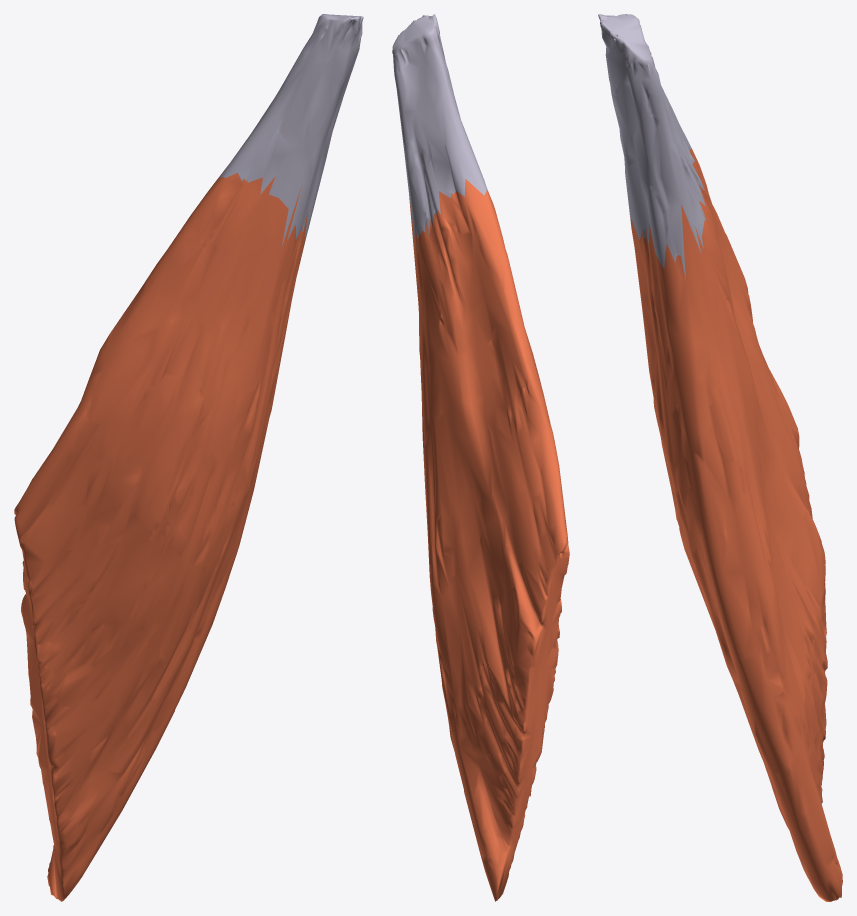
Rendered from Adductor_longus.r_Generated_Mesh_From_X3D.1012.glb.
3 renders of one model, left to right at view 1: azimuth 30°, elevation 25°; view 2: azimuth 150°, elevation 25°; view 3: azimuth 270°, elevation 25°, orthographic. The views are drawn at different scales.
Parts seen in each view (by area): view 1: Adductor_longus.r_Generated_Mesh_From_X3D.1012; view 2: Adductor_longus.r_Generated_Mesh_From_X3D.1012; view 3: Adductor_longus.r_Generated_Mesh_From_X3D.1012.
Boxes of the visible parts, x1,y1,x2,y2 form: Adductor_longus.r_Generated_Mesh_From_X3D.1012: (14,14,363,901); Adductor_longus.r_Generated_Mesh_From_X3D.1012: (392,14,569,901); Adductor_longus.r_Generated_Mesh_From_X3D.1012: (598,14,842,901).
Size of the model in its own units: 0.0831 by 0.2649 by 0.0598.
